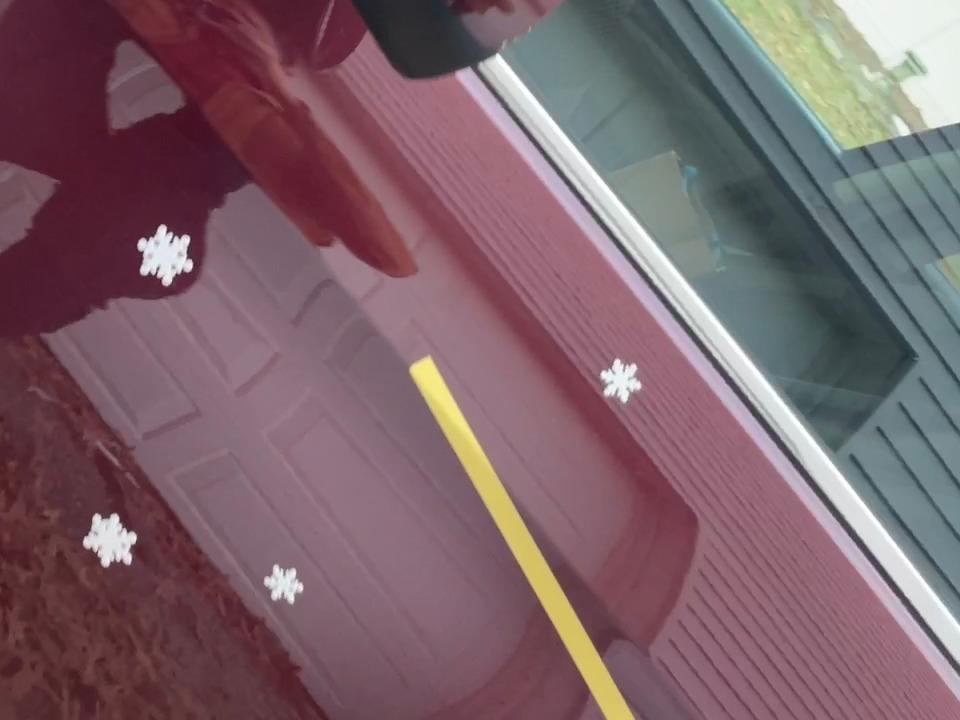dent: (129, 215, 204, 299), (81, 505, 140, 576), (259, 559, 313, 611), (597, 357, 642, 409), (220, 0, 275, 8)
scratch: (401, 347, 649, 720), (0, 322, 14, 577)
